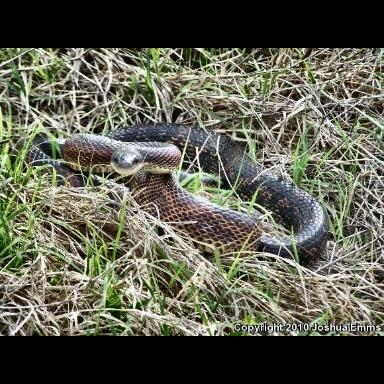snake: (26, 124, 333, 263)
